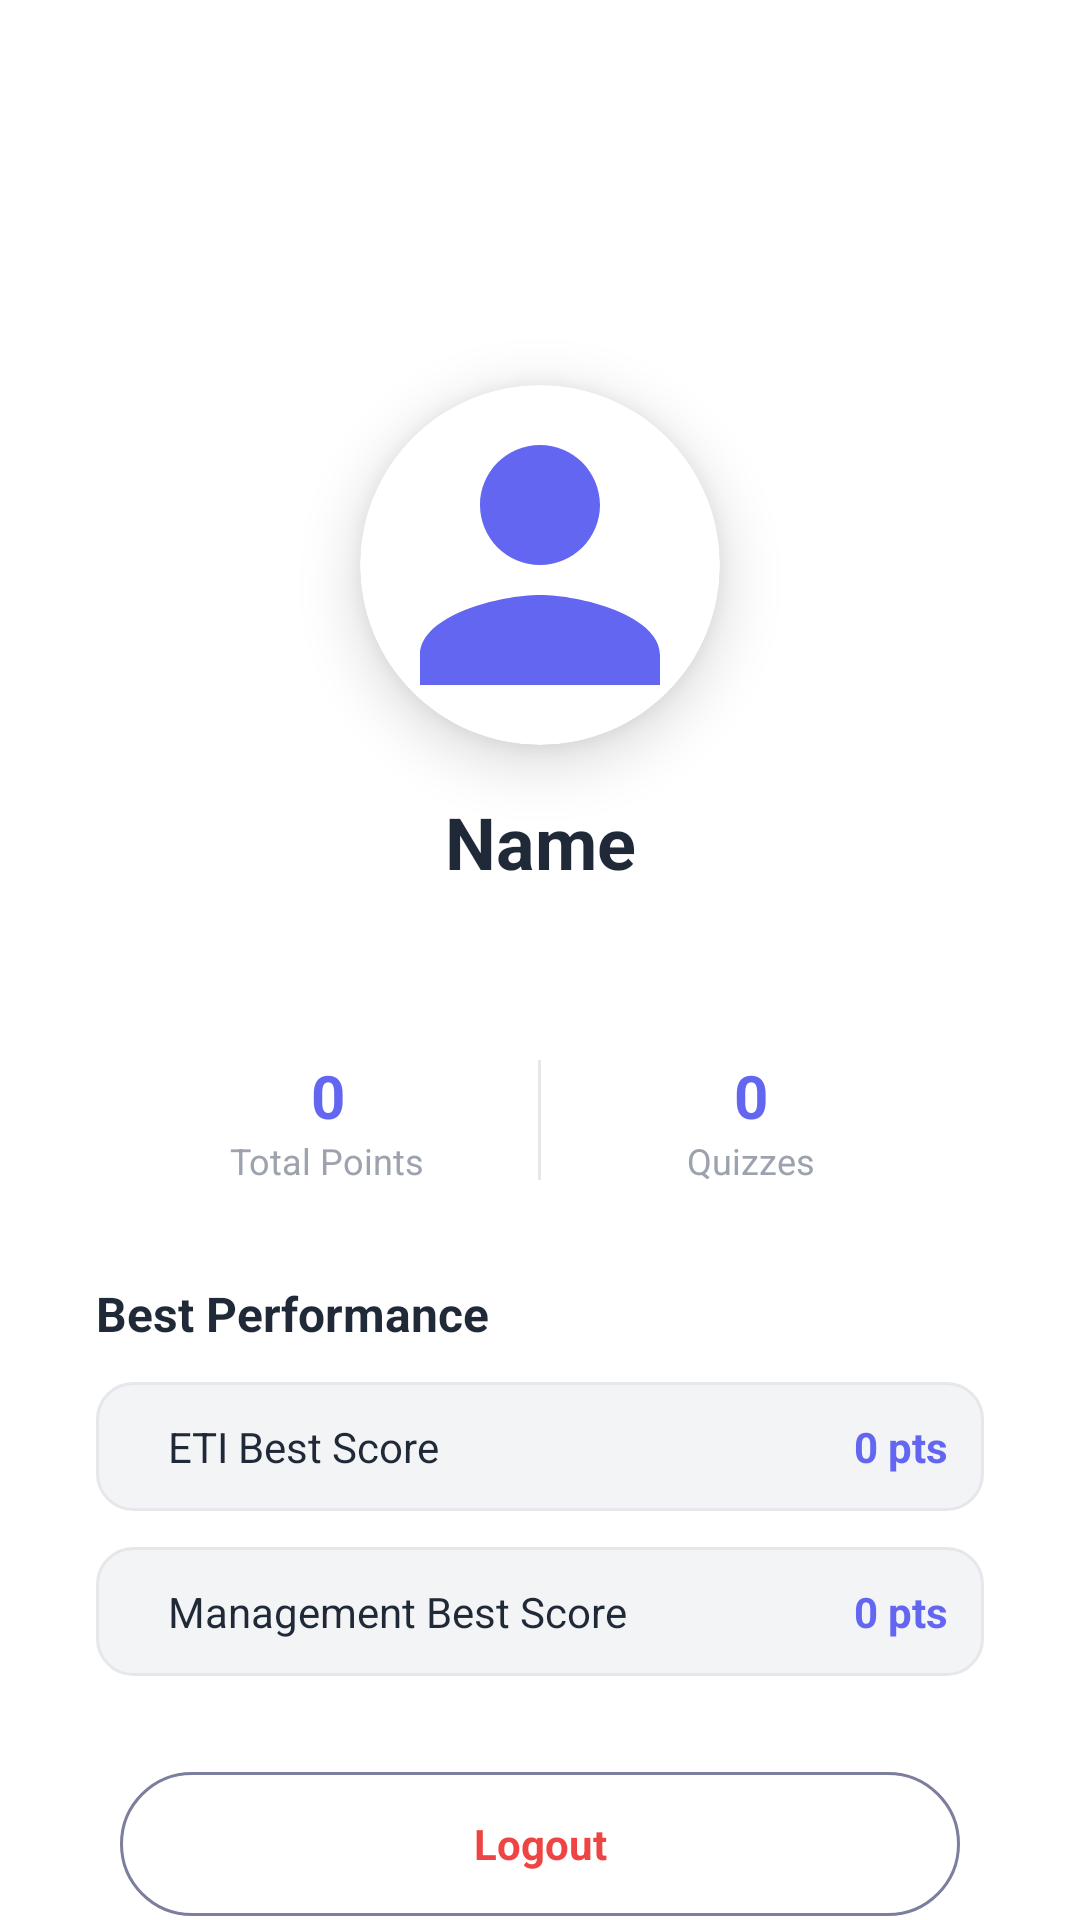

Where to tap for icons on this 1080*1920 app screen, as (x=x, y=y):
person: (x=540, y=565)
